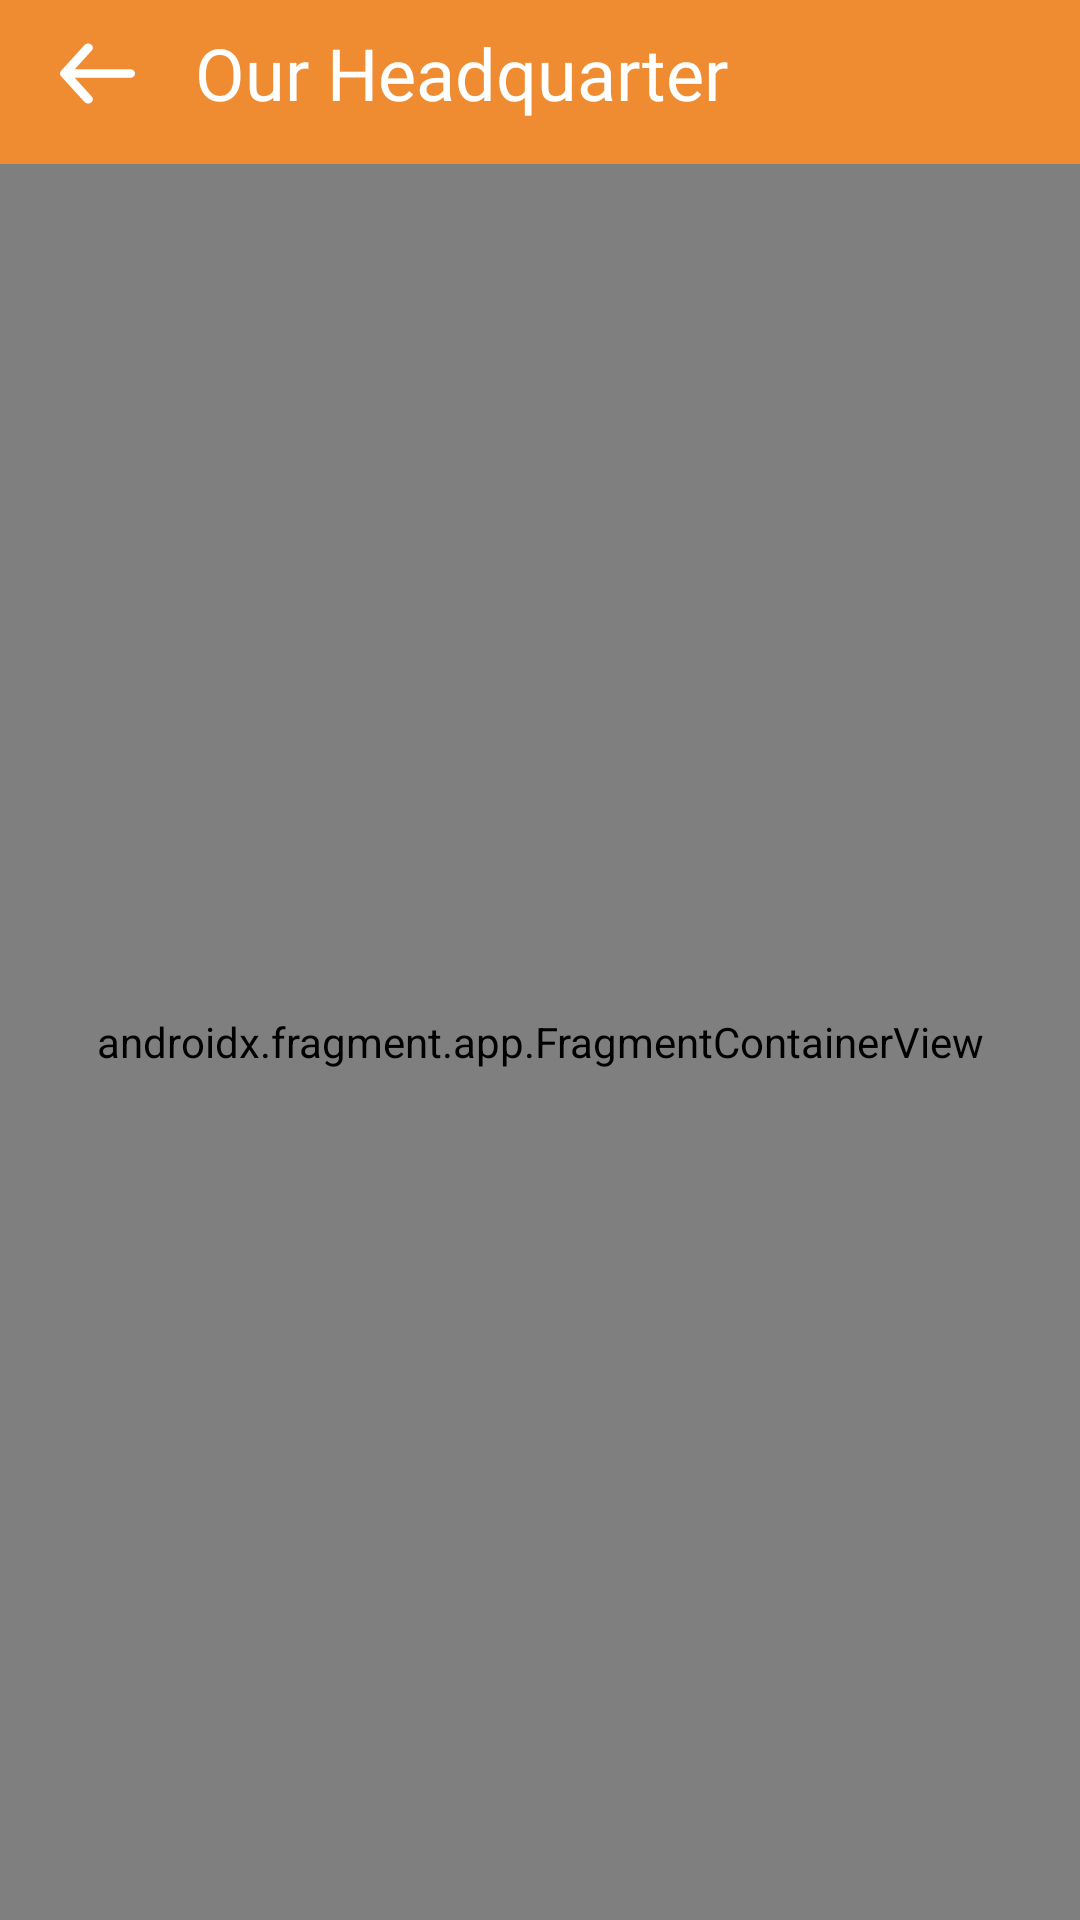

Icon click points for this 1080 x 1920 phone screenshot, format (x,y):
arrow back: (97,73)
